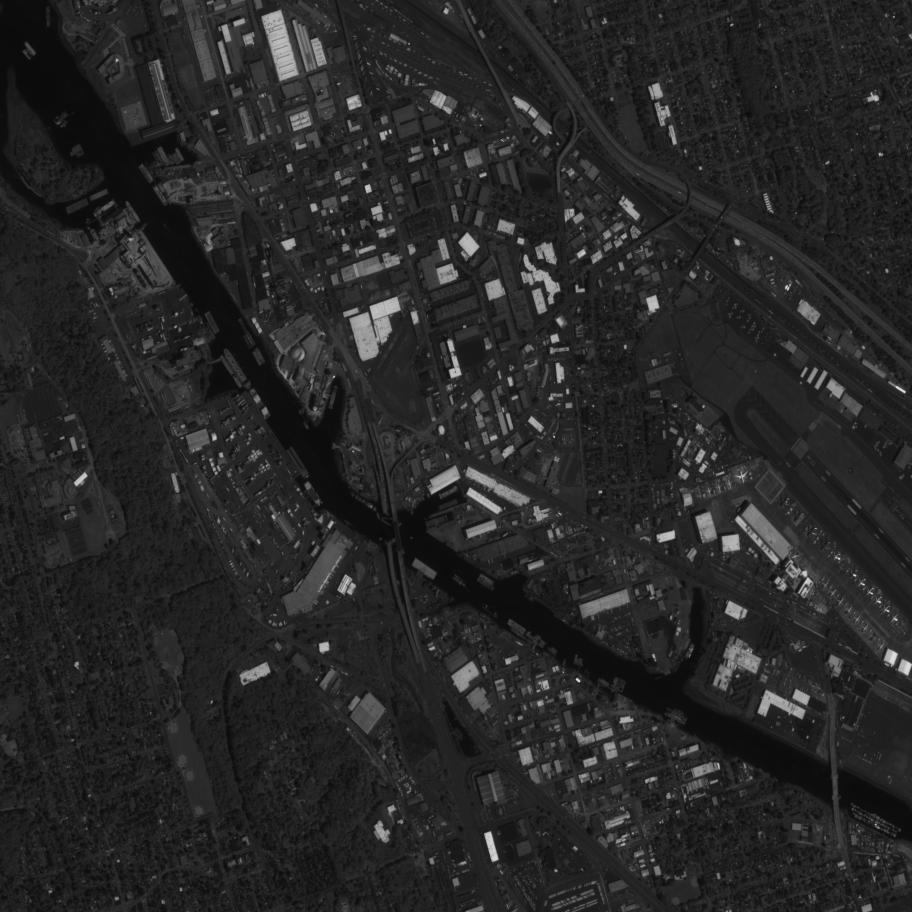plane: (732, 466, 751, 485), (775, 492, 794, 511), (789, 507, 808, 526), (802, 522, 821, 541), (816, 536, 835, 555), (845, 566, 861, 581), (887, 610, 902, 626), (879, 601, 894, 617), (862, 584, 877, 599), (854, 575, 869, 589), (871, 593, 886, 607), (830, 549, 844, 563), (833, 595, 847, 609), (841, 604, 855, 618), (850, 613, 864, 627), (858, 622, 872, 636), (866, 631, 880, 645), (874, 640, 888, 654), (818, 579, 832, 592), (826, 587, 839, 601), (702, 483, 714, 497), (713, 481, 725, 493), (790, 550, 802, 562), (724, 477, 735, 489), (851, 424, 858, 431), (839, 408, 845, 414), (772, 352, 778, 358), (697, 494, 703, 500), (798, 381, 804, 386), (754, 369, 758, 374), (740, 325, 744, 330), (747, 331, 751, 335), (749, 328, 753, 332), (746, 319, 750, 323), (743, 325, 747, 329), (742, 309, 746, 313), (734, 306, 738, 310), (733, 303, 737, 307), (907, 466, 911, 470), (874, 447, 878, 451), (690, 490, 694, 494), (882, 445, 886, 449), (879, 453, 883, 457), (875, 441, 879, 445), (873, 444, 877, 448), (854, 422, 858, 426), (751, 325, 754, 329), (753, 322, 756, 326), (755, 339, 758, 343), (909, 462, 912, 466), (756, 334, 760, 337), (748, 316, 751, 320), (738, 316, 742, 319), (736, 316, 739, 320), (729, 315, 732, 319), (728, 312, 731, 316), (732, 306, 735, 310), (728, 296, 731, 300), (876, 449, 880, 452), (889, 443, 893, 446), (884, 442, 887, 446), (884, 445, 888, 448), (879, 451, 882, 455), (726, 299, 729, 303), (754, 337, 757, 340), (752, 328, 755, 331), (754, 325, 757, 328), (757, 337, 760, 340), (758, 331, 761, 334), (762, 327, 765, 330), (748, 314, 751, 317), (740, 310, 743, 313), (736, 303, 739, 306), (731, 312, 734, 315), (878, 441, 881, 444), (876, 444, 879, 447), (761, 330, 763, 333)
ship: (221, 346, 254, 391), (285, 447, 312, 480), (248, 388, 272, 420), (411, 557, 438, 579), (303, 481, 324, 507), (663, 707, 689, 726), (354, 494, 379, 513), (124, 199, 143, 224), (151, 184, 170, 208), (93, 199, 116, 218), (65, 198, 90, 215), (203, 311, 220, 335), (137, 163, 155, 184), (53, 107, 74, 125), (505, 618, 527, 635), (88, 188, 110, 202), (476, 577, 496, 592), (157, 146, 171, 166), (451, 575, 469, 589), (482, 603, 499, 617), (478, 573, 495, 586), (23, 41, 37, 56), (58, 116, 74, 129), (152, 150, 164, 167), (255, 347, 266, 364), (242, 335, 254, 350), (69, 146, 84, 158), (238, 318, 249, 334), (251, 351, 262, 367), (174, 147, 185, 162), (596, 677, 611, 688), (246, 333, 256, 347), (22, 48, 33, 60), (546, 646, 559, 656), (672, 708, 686, 717), (45, 6, 51, 27), (172, 153, 182, 165), (166, 153, 176, 165), (71, 143, 82, 152), (76, 150, 85, 158), (302, 422, 310, 431)
